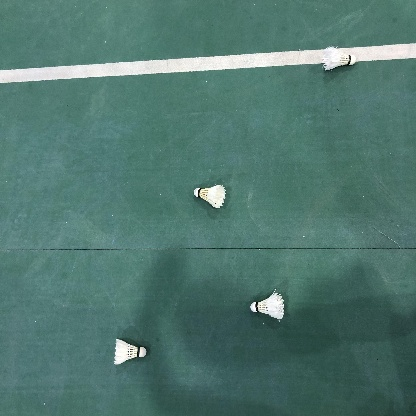ball_single: (114, 339, 147, 365), (251, 293, 284, 319), (322, 47, 356, 70), (194, 185, 226, 209)
